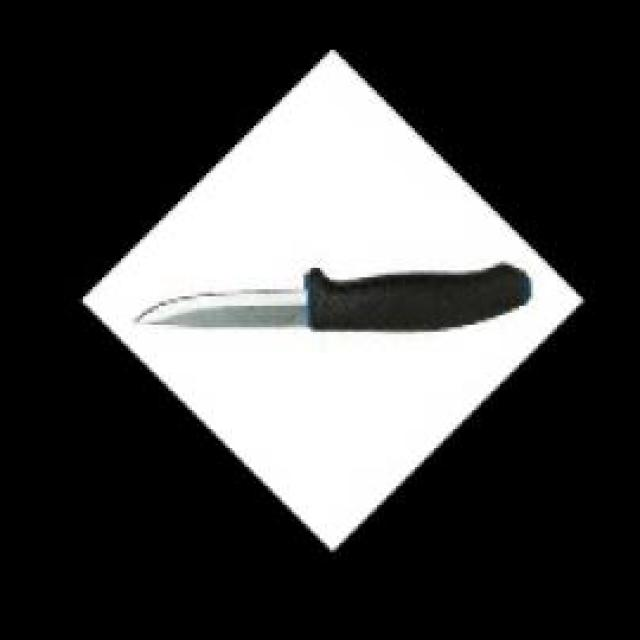knife: (137, 263, 531, 337)
